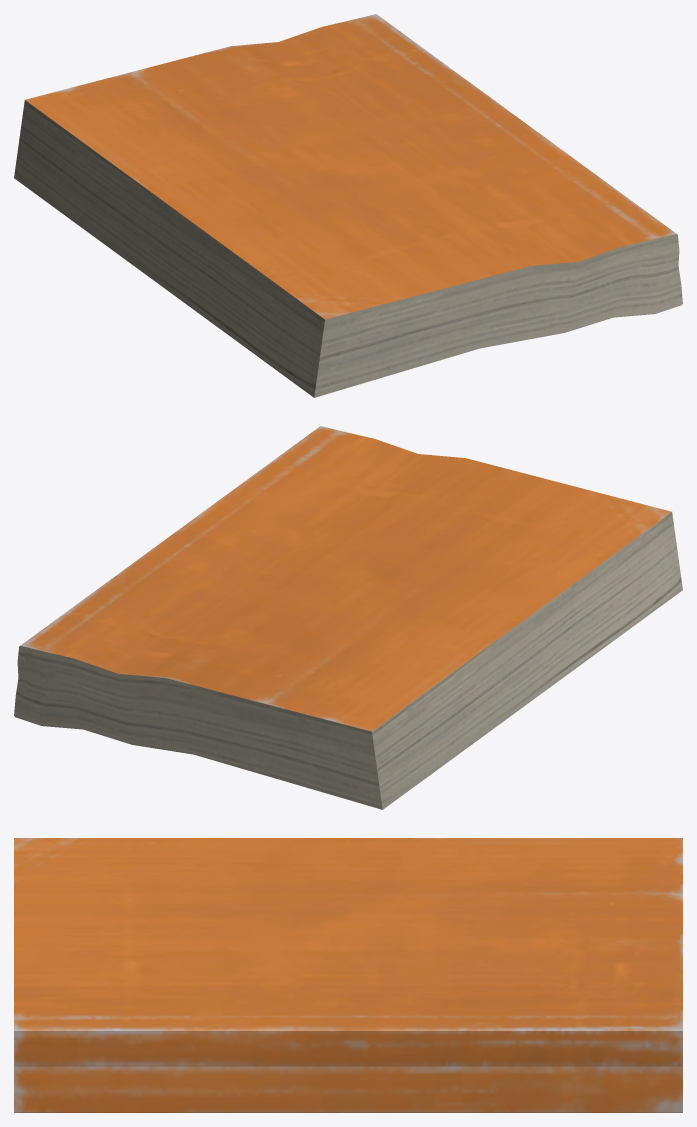
File: book_unnamed02.dae
The picture shows the model from 3 angles, top to bottom: view 1: azimuth 30°, elevation 25°; view 2: azimuth 150°, elevation 25°; view 3: azimuth 270°, elevation 25°; orthographic projection. The views are drawn at different scales.
Parts seen in each view (by area): view 1: book2; view 2: book2; view 3: book2.
Part boxes in pixels (left/top/right/bottom): book2: left=14, top=14, right=682, bottom=397; book2: left=14, top=426, right=682, bottom=809; book2: left=14, top=838, right=682, bottom=1112.
Bounding box in the file's own units: 16.77 × 3.44 × 23.65.
